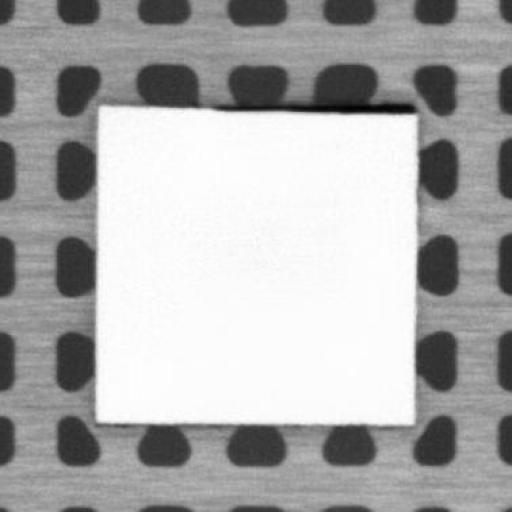DIE_BROKEN: (213, 100, 420, 115)
